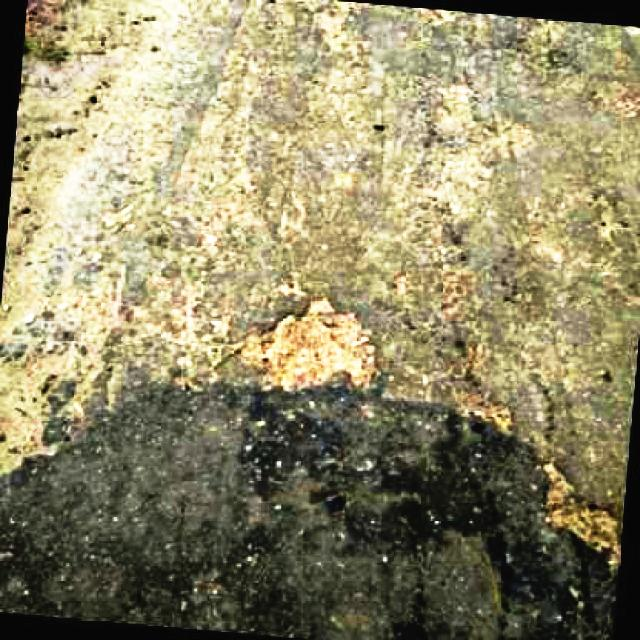pothole: (418, 78, 536, 204), (234, 291, 374, 391), (0, 324, 88, 474), (539, 457, 626, 574)
